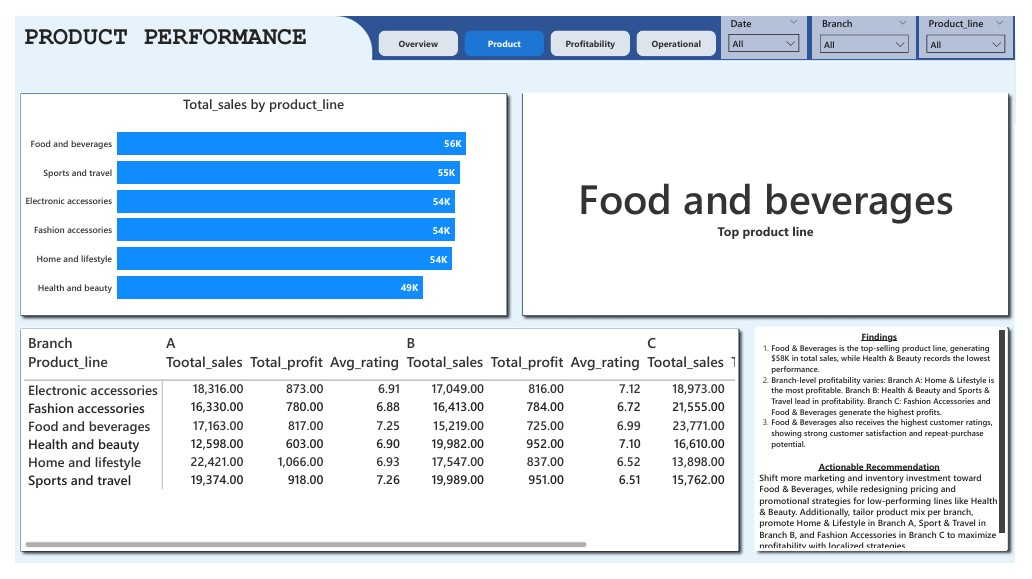

What the dashboard file says about the page in this screenshot:
{"tool":"powerbi","page":{"name":"Product","canvas":[1500,820],"ordinal":1},"visuals":[{"type":"clusteredBarChart","fields":{"Category":["Product performance.product_line"],"Y":["Sum(Product performance.total_sales)"]},"box":[8.3,116.7,726.7,331.7],"z":0},{"type":"pivotTable","fields":{"Columns":["Product performance.branch"],"Rows":["Product performance.product_line"],"Values":["Sum(Product performance.total_sales)","Sum(Product performance.total_profit)","Avg(Product performance.avg_rating)"]},"box":[8.3,470,1075,331.7],"z":1000},{"type":"card","fields":{"Values":["Avg margin.Top produce line"]},"box":[760.9,116.4,727.3,331.8],"z":2000},{"type":"textbox","box":[6.1,6,544.9,63.3],"z":3000},{"type":"pageNavigator","box":[544.3,20,510,42],"z":3001},{"type":"slicer","fields":{"Values":["Supermarket.branch"]},"box":[1194.7,1.3,156.6,63.2],"z":3002},{"type":"slicer","fields":{"Values":["Supermarket.product_line"]},"box":[1355.3,1.3,140.8,61.8],"z":3003},{"type":"slicer","fields":{"Values":["Supermarket.date"]},"box":[1058,0,129,63],"z":3004},{"type":"textbox","box":[1109.8,466.7,378.4,335.3],"z":3005}]}

Visuals, with their boxes in screenshot pixels (x1, y1, x2, y2), scaled from the page's 1500x820 canvas onto the 1032x579 screenshot:
clusteredBarChart - Product performance.product_line x Sum(Product performance.total_sales): rect(6, 82, 506, 317)
pivotTable - Product performance.branch x Product performance.product_line: rect(6, 332, 745, 566)
card - Avg margin.Top produce line: rect(523, 82, 1024, 316)
textbox: rect(4, 4, 379, 49)
pageNavigator: rect(374, 14, 725, 44)
slicer - Supermarket.branch: rect(822, 1, 930, 46)
slicer - Supermarket.product_line: rect(932, 1, 1029, 45)
slicer - Supermarket.date: rect(728, 0, 817, 44)
textbox: rect(764, 330, 1024, 566)
